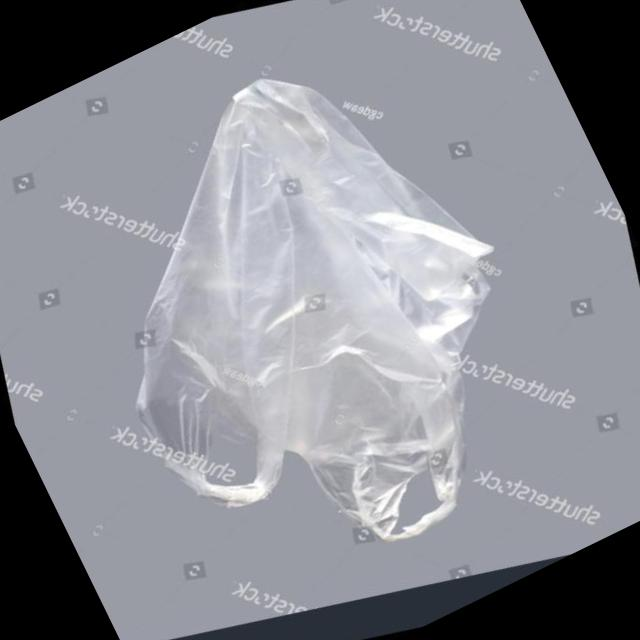KantongPlastik: (23, 14, 595, 624)
